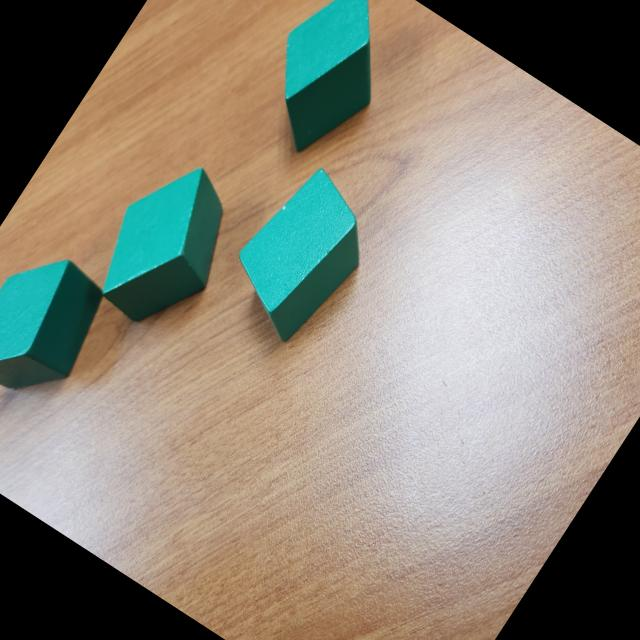green: (76, 145, 260, 347), (210, 156, 390, 353), (235, 0, 426, 172), (0, 236, 123, 420)
